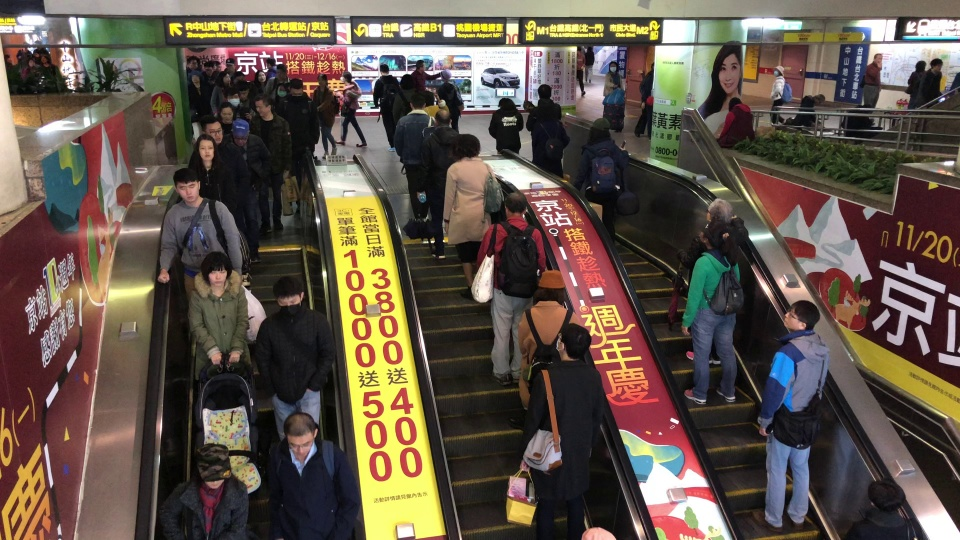person_head: (194, 443, 231, 491), (554, 321, 592, 363), (283, 412, 315, 458), (867, 478, 906, 514), (273, 275, 304, 316), (783, 299, 821, 332), (532, 269, 566, 303), (201, 251, 231, 287), (171, 168, 201, 203), (447, 133, 481, 161), (702, 219, 729, 251), (705, 197, 733, 225), (199, 114, 223, 145), (194, 133, 218, 161), (587, 117, 611, 144), (503, 192, 527, 218), (230, 118, 250, 147), (288, 77, 304, 102), (255, 94, 271, 117), (433, 109, 451, 128), (219, 101, 233, 124), (409, 91, 425, 111), (235, 79, 250, 100), (213, 71, 231, 88), (225, 87, 240, 106), (497, 96, 515, 110), (399, 74, 414, 90), (727, 96, 743, 111), (274, 82, 288, 98), (537, 84, 551, 100), (274, 64, 287, 81), (929, 57, 943, 72), (231, 70, 245, 84), (423, 90, 434, 107), (439, 69, 452, 83), (204, 60, 214, 77), (254, 70, 267, 83), (339, 71, 352, 84), (812, 93, 825, 106), (225, 57, 236, 72), (317, 72, 328, 87), (415, 59, 426, 74), (378, 63, 390, 76), (914, 60, 927, 72), (773, 65, 785, 77), (190, 71, 201, 84), (187, 55, 197, 69), (265, 56, 276, 68), (873, 52, 883, 65), (608, 60, 617, 72), (40, 54, 49, 65), (214, 60, 222, 72), (3, 54, 12, 64), (27, 58, 36, 67), (32, 48, 40, 57), (586, 45, 593, 52), (576, 46, 582, 53)
person_vbox: (517, 321, 604, 540), (751, 300, 830, 536), (253, 275, 336, 444), (475, 191, 546, 387), (505, 270, 582, 432), (676, 197, 749, 364), (267, 412, 362, 540), (156, 168, 244, 301), (680, 219, 741, 406), (188, 113, 251, 288), (442, 133, 499, 302), (157, 443, 251, 540), (186, 251, 251, 382), (573, 116, 631, 249), (223, 118, 272, 264), (415, 109, 460, 260), (249, 94, 293, 235), (391, 90, 437, 224), (277, 77, 321, 208), (840, 478, 923, 540), (187, 133, 238, 222), (524, 84, 565, 181), (333, 71, 367, 149), (312, 72, 340, 160), (373, 62, 399, 152), (487, 96, 524, 157), (716, 96, 754, 149), (435, 69, 464, 134), (859, 51, 884, 126), (602, 59, 627, 132), (392, 73, 425, 127), (633, 60, 655, 141), (912, 57, 944, 112), (187, 70, 211, 142), (840, 103, 883, 143), (768, 64, 792, 126), (790, 92, 827, 131), (905, 58, 927, 113), (264, 64, 291, 103), (209, 71, 231, 118), (409, 59, 441, 90), (224, 87, 250, 124), (233, 79, 257, 119), (421, 90, 450, 118), (38, 54, 63, 83), (575, 44, 586, 97), (271, 82, 290, 112), (20, 57, 42, 81), (584, 45, 595, 83), (251, 69, 267, 94), (263, 55, 278, 78), (3, 54, 15, 75)
